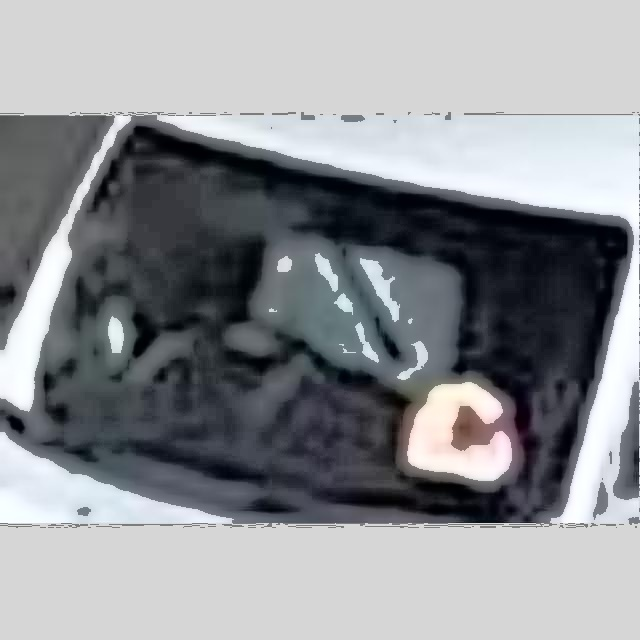pakai: (249, 199, 465, 390)
